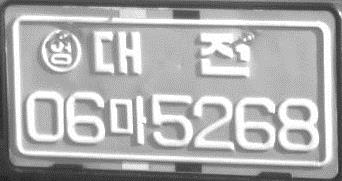0: (25, 89, 66, 143)
2: (194, 94, 234, 151)
5: (149, 92, 194, 148)
6: (234, 94, 277, 151), (65, 88, 106, 144)
8: (277, 96, 319, 152)
대전_D: (91, 28, 251, 79)
마: (107, 94, 148, 145)
영: (41, 28, 83, 73)
